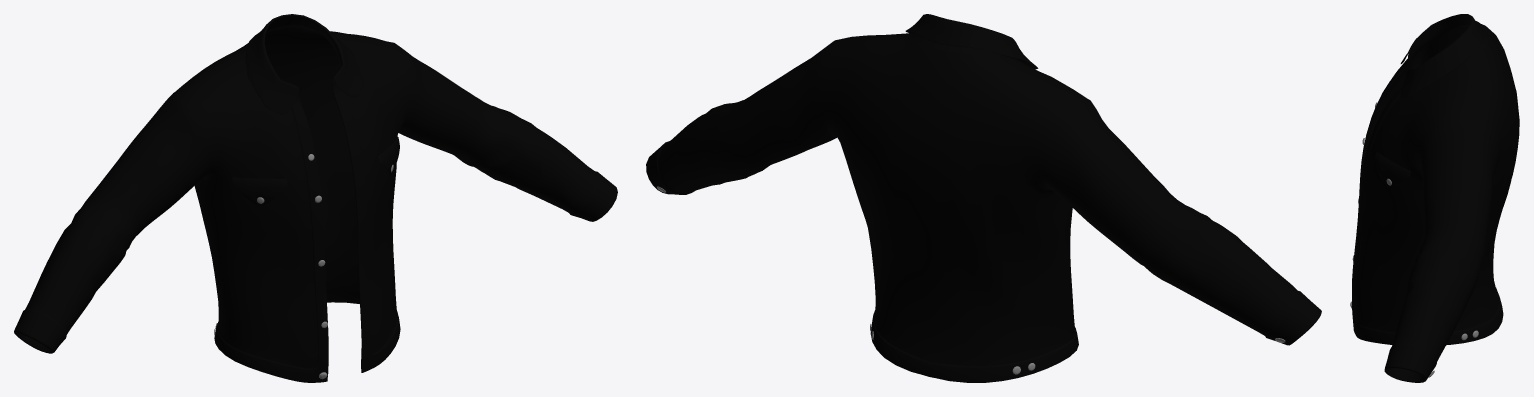
The model's file is denim_jacket.glb.
3 renders of one model, left to right at view 1: azimuth 30°, elevation 25°; view 2: azimuth 150°, elevation 25°; view 3: azimuth 270°, elevation 25°, orthographic. The views are drawn at different scales.
Parts seen in each view (by area): view 1: Jacket1:Jacket_low, Jacket1:Jacket_Pockets_low; view 2: Jacket1:Jacket_low; view 3: Jacket1:Jacket_low, Jacket1:Jacket_Pockets_low, Jacket1:Jacket_Buttons_low.
Part boxes in pixels (x1,y1,x2,y2): Jacket1:Jacket_low: (14, 14, 617, 382); Jacket1:Jacket_Pockets_low: (232, 137, 399, 206); Jacket1:Jacket_low: (646, 14, 1321, 382); Jacket1:Jacket_low: (1352, 14, 1519, 382); Jacket1:Jacket_Pockets_low: (1374, 105, 1410, 187); Jacket1:Jacket_Buttons_low: (1350, 102, 1478, 377).
Size of the model in its own units: 5.55 by 2.82 by 1.43.
1 material, 1 textured.
